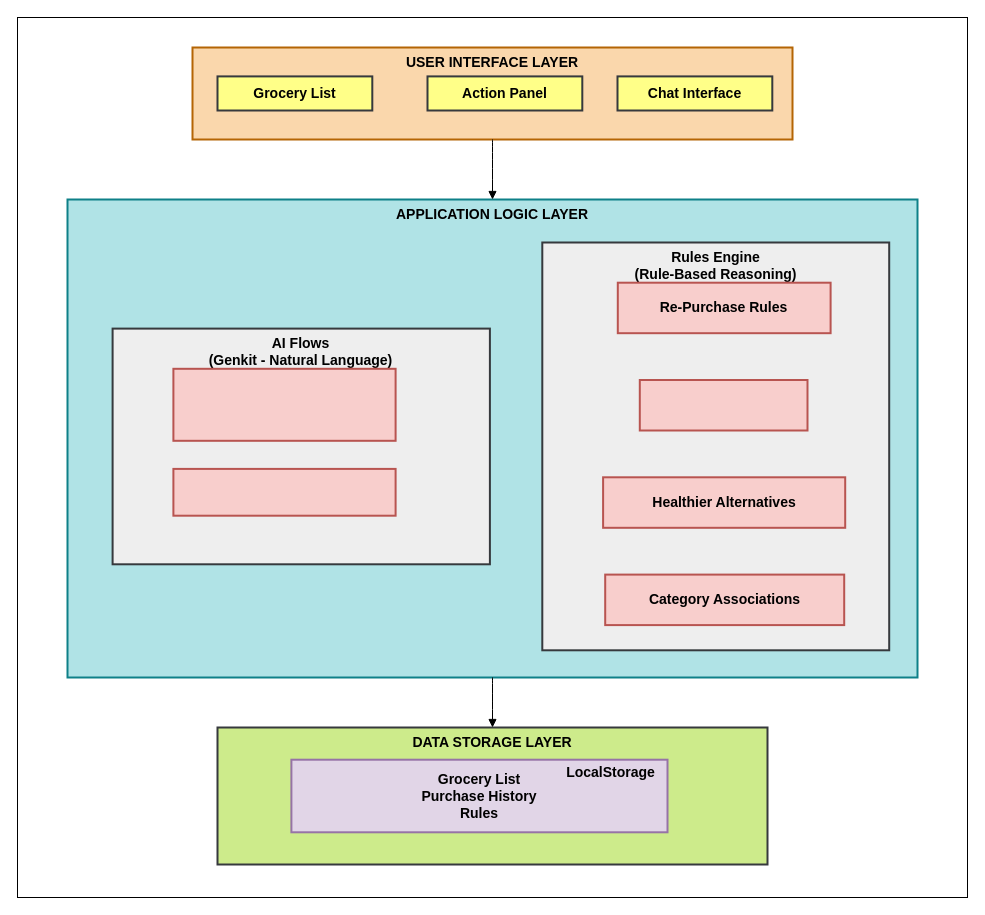
This 985x915 diagram has some shape labels left out. The shapes that lost their labels are listed below. From the top down, each one's centre as x and y in pixels, then its label:
the point at 284,404: Chat Command Processing
the point at 723,404: Expiry Rules
the point at 284,491: Smart Suggestions
